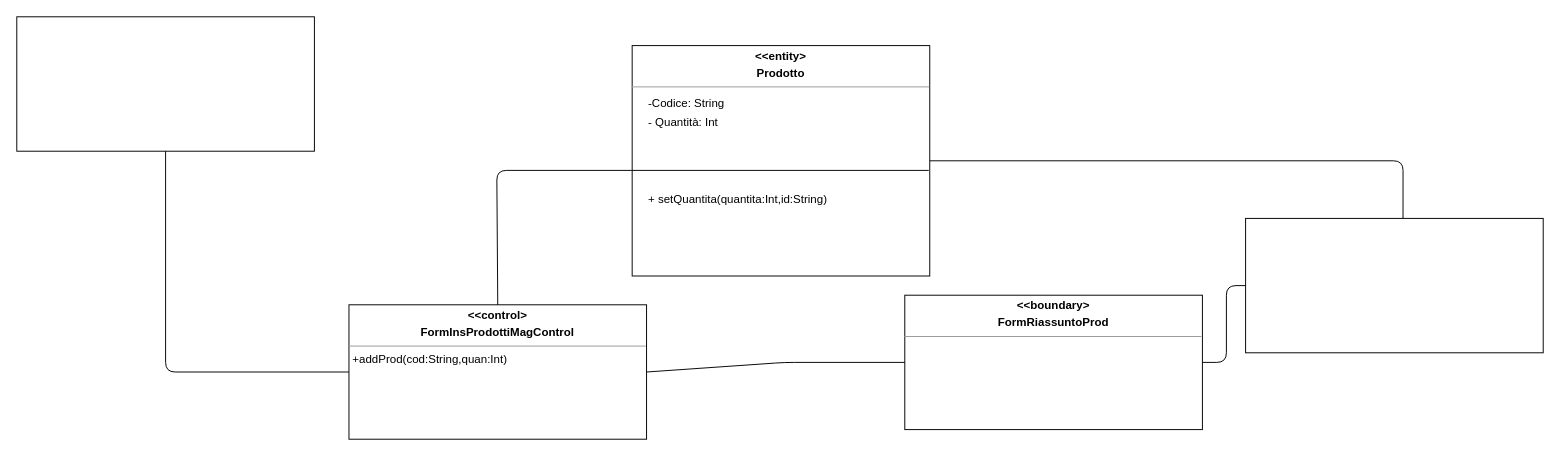
This 1560x456 diagram has some shape labels left out. Each missing label, with the box of its shape:
<<boundary> FormInsProdottiMag: (16, 16, 314, 151)
<<control> MagazzinoControl +AggiornaProdottiMag(): (1245, 217, 1543, 353)
